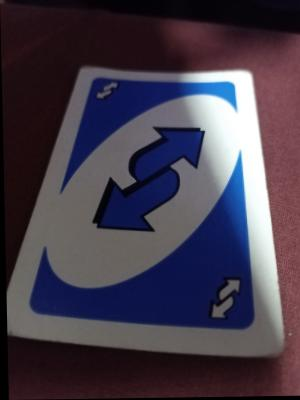blue: (88, 76, 248, 331)
reverse: (209, 271, 241, 324), (94, 80, 122, 102)
